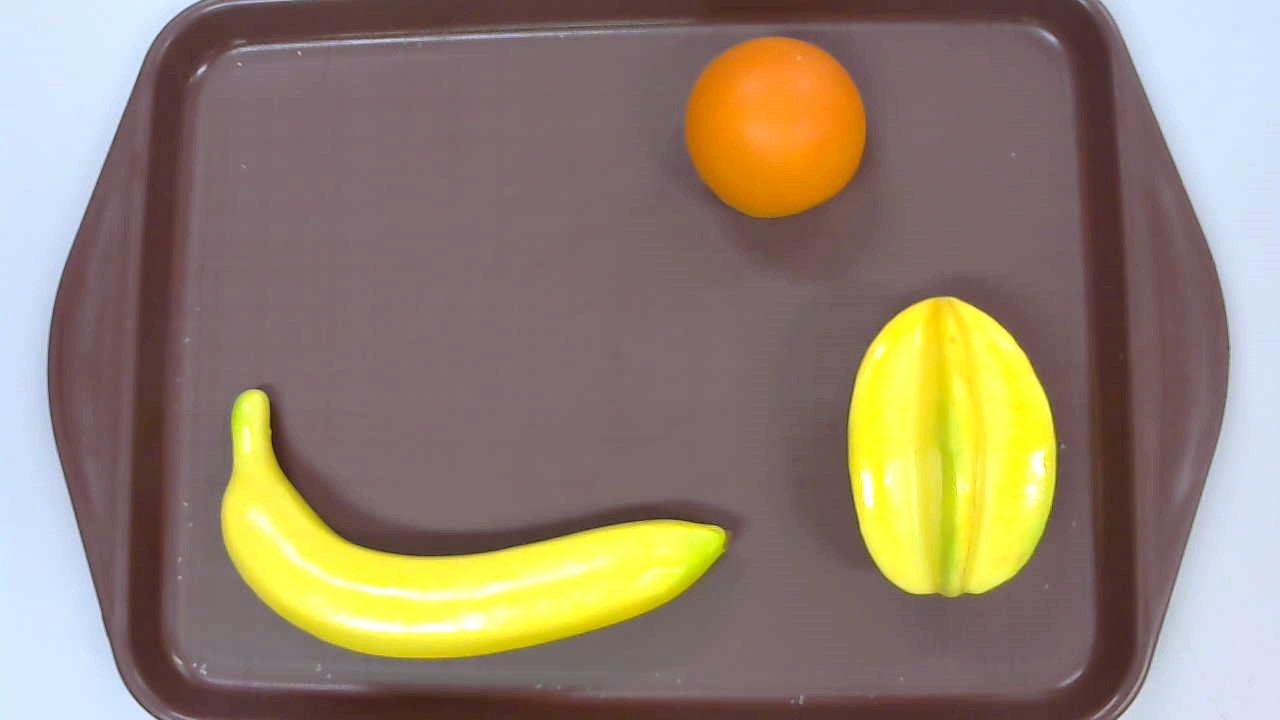banana: (220, 387, 739, 659)
bun: (683, 37, 866, 216)
star fruit: (847, 295, 1057, 596)
